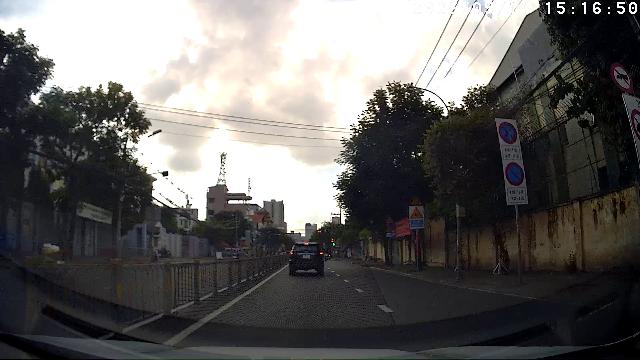130-cam-dung-va-do-xe: (499, 121, 518, 144)
131a-cam-do-xe: (505, 161, 525, 186)
